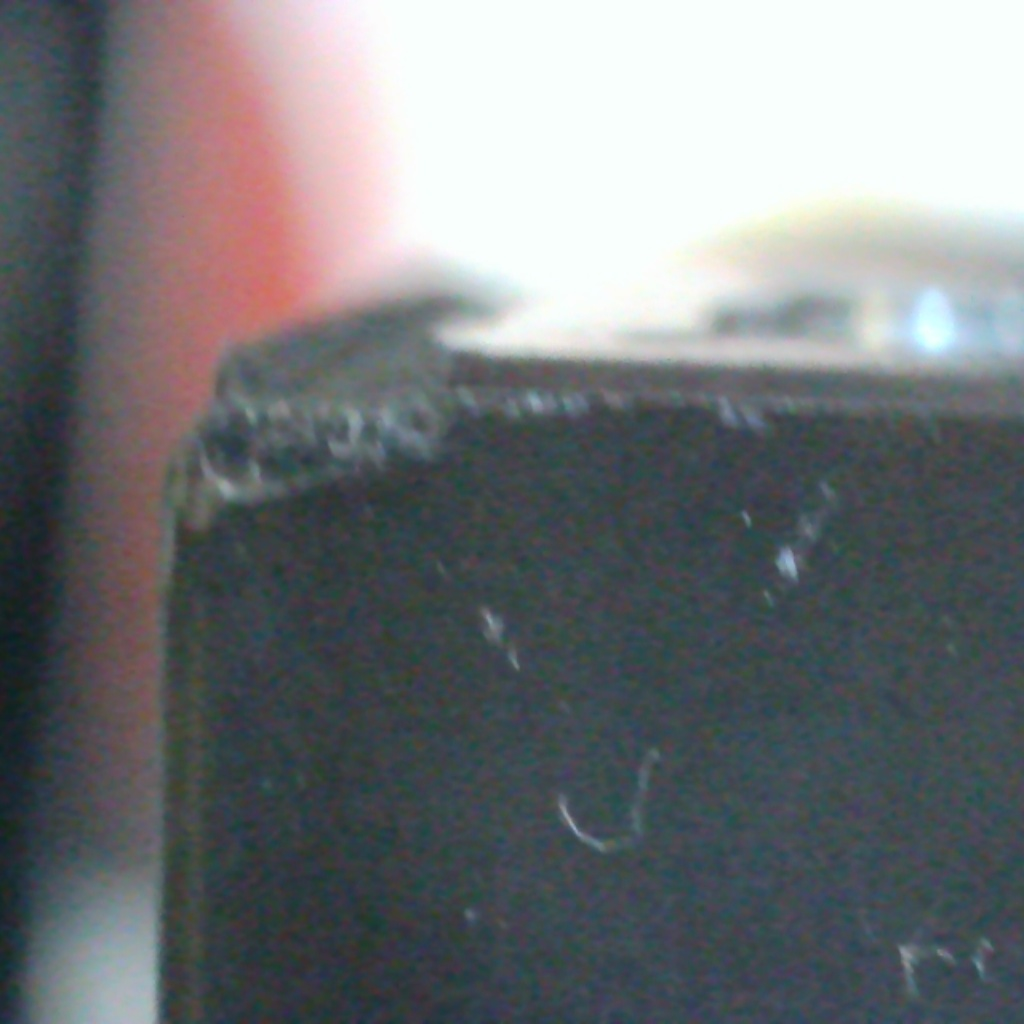flank_wear: (166, 403, 429, 530)
